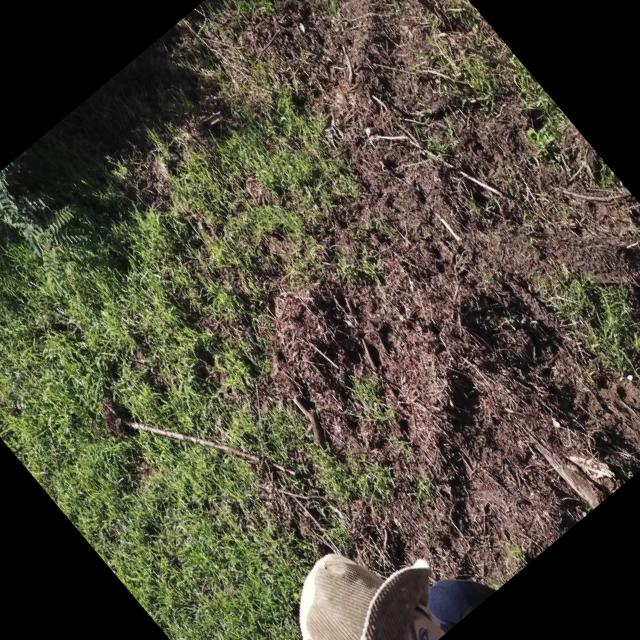Mysore-Thorn-Weed: (0, 142, 126, 312)
